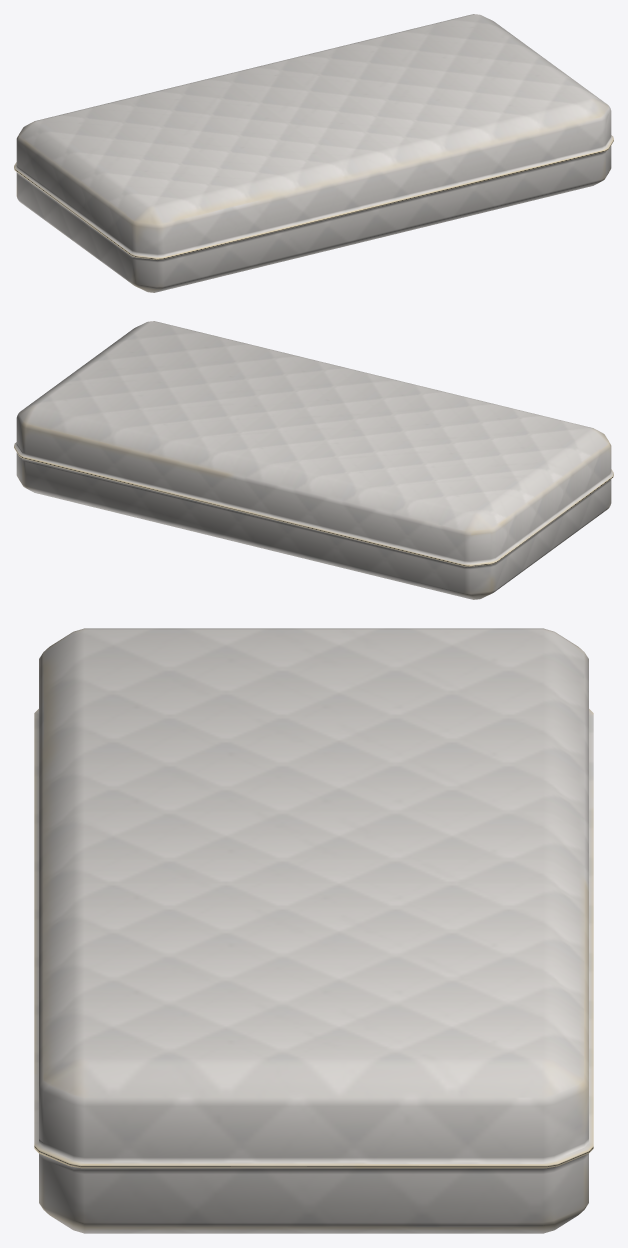
File: mdl_Matratze.fbx
The picture shows the model from 3 angles, top to bottom: view 1: azimuth 30°, elevation 25°; view 2: azimuth 150°, elevation 25°; view 3: azimuth 270°, elevation 25°; orthographic projection. The views are drawn at different scales.
Parts seen in each view (by area): view 1: Matratze.001; view 2: Matratze.001; view 3: Matratze.001.
Part boxes in pixels (bbox=[...]): Matratze.001: bbox=[14, 14, 613, 292]; Matratze.001: bbox=[14, 321, 613, 599]; Matratze.001: bbox=[34, 628, 593, 1233].
Size of the model in its own units: 288 by 49.5 by 145.
